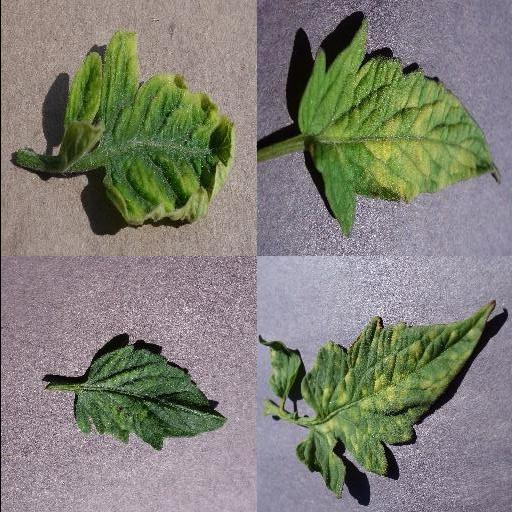Leaf Mold: (294, 18, 500, 238), (295, 300, 495, 499)
Mosaic Virus: (72, 346, 226, 452)
Yellow Leaf Curl Virus: (63, 32, 237, 226)
